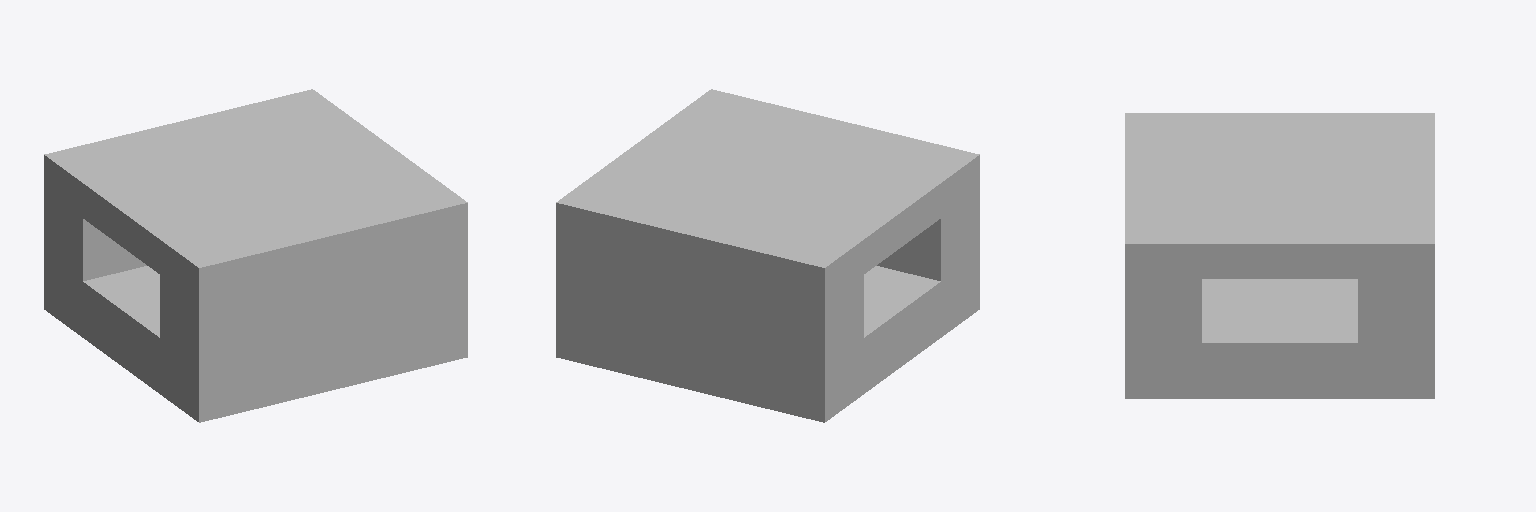
File: tile288.obj
3 views of the same model, side by side, from view 1: azimuth 30°, elevation 25°; view 2: azimuth 150°, elevation 25°; view 3: azimuth 270°, elevation 25° (orthographic).
Visible parts, largest first — view 1: tile288; view 2: tile288; view 3: tile288.
Part boxes in pixels (bbox=[...]): tile288: bbox=[44, 89, 467, 422]; tile288: bbox=[556, 89, 979, 422]; tile288: bbox=[1125, 113, 1434, 398].
Size of the model in its own units: 1 by 0.55 by 1.